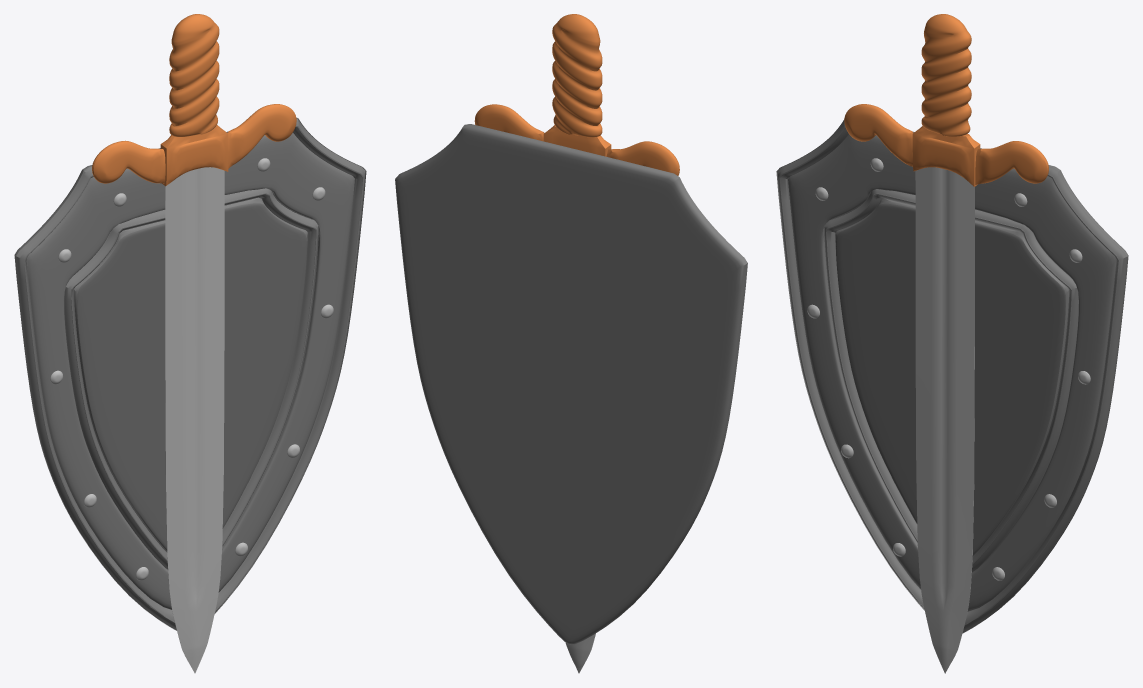
The model's file is melee.glb.
3 renders of one model, left to right at view 1: azimuth 30°, elevation 25°; view 2: azimuth 150°, elevation 25°; view 3: azimuth 330°, elevation 25°, orthographic.
Visible parts, largest first — view 1: Plane, Plane.001, Cube; view 2: Plane, Cube, Plane.001; view 3: Plane, Plane.001, Cube.
Boxes of the visible parts, <box> form: Plane: <box>14,117,366,630</box>; Plane.001: <box>165,167,224,673</box>; Cube: <box>92,14,296,186</box>; Plane: <box>395,124,747,644</box>; Cube: <box>474,14,679,175</box>; Plane.001: <box>565,633,595,673</box>; Plane: <box>776,119,1128,633</box>; Plane.001: <box>915,167,974,673</box>; Cube: <box>844,14,1048,186</box>.
Size of the model in its own units: 0.9006 by 1.62 by 0.0677.
